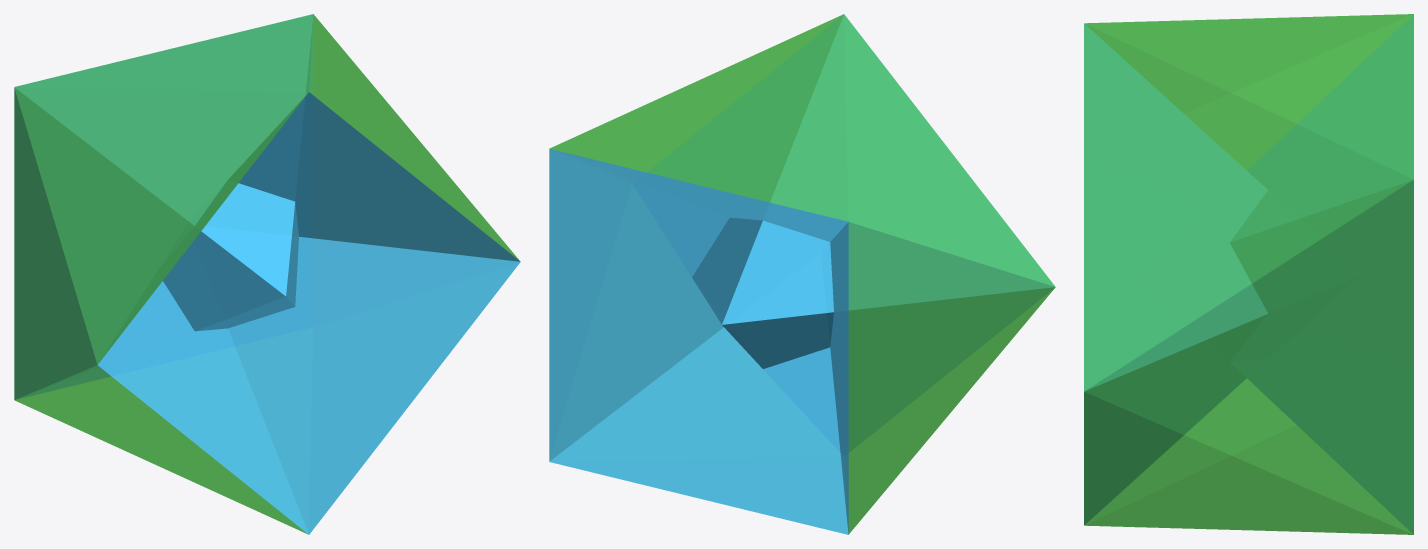
File: 27_Diexcavated_Square_Antiprism.obj
3 views of the same model, side by side, from view 1: azimuth 30°, elevation 25°; view 2: azimuth 150°, elevation 25°; view 3: azimuth 270°, elevation 25° (orthographic). The views are drawn at different scales.
Bounding box in the file's own units: 1.41 × 1.41 × 0.8409.
